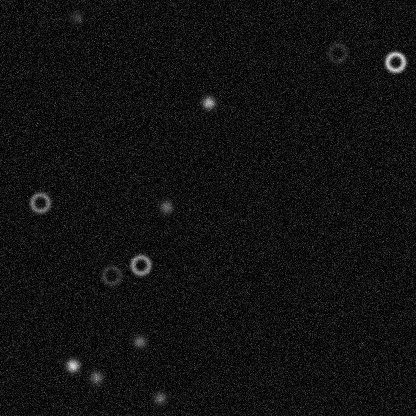Ring: (383, 49, 407, 73), (325, 41, 349, 65), (28, 190, 52, 214), (99, 263, 123, 287), (128, 252, 152, 276)
Spot: (64, 357, 80, 373), (151, 389, 167, 405), (131, 333, 147, 349), (158, 199, 174, 215), (200, 94, 216, 110), (68, 9, 84, 25), (88, 369, 104, 385)
